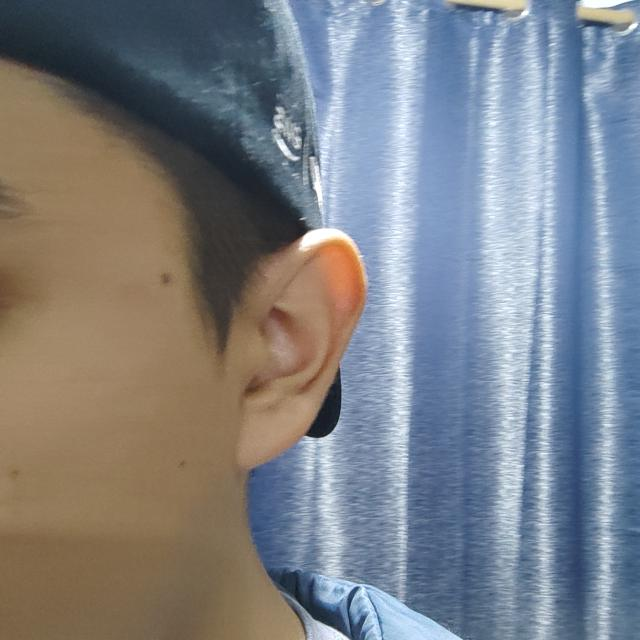ear: (225, 229, 366, 472)
